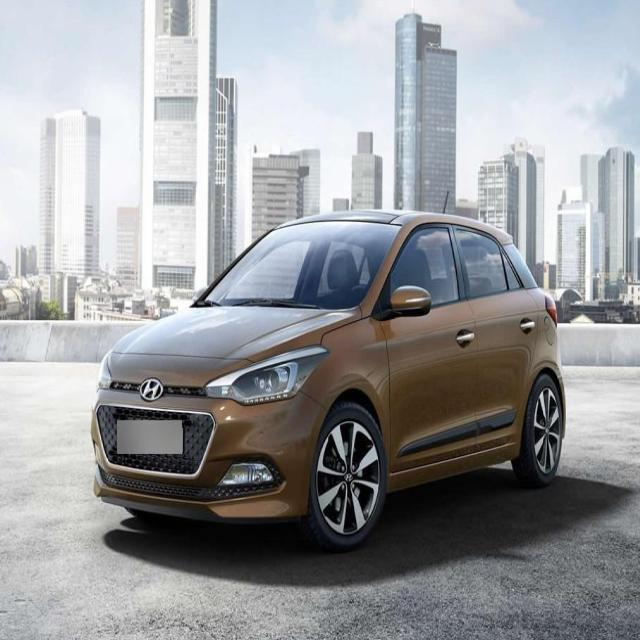back_left_side_light: (541, 290, 559, 332)
door: (452, 218, 540, 452)
front_bumper: (91, 388, 328, 522)
front_glass: (199, 219, 404, 311)
front_left_side_door: (375, 218, 481, 480)
front_left_side_light: (203, 342, 331, 406)
front_left_side_mirror: (389, 284, 432, 317)
front_right_side_light: (96, 351, 115, 394)
wheel: (308, 405, 386, 546), (511, 374, 563, 482)
